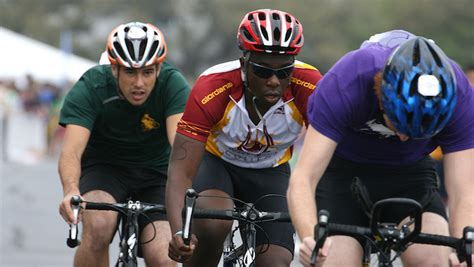com_capacete_bicicleta: (235, 7, 304, 107), (106, 20, 167, 108)
